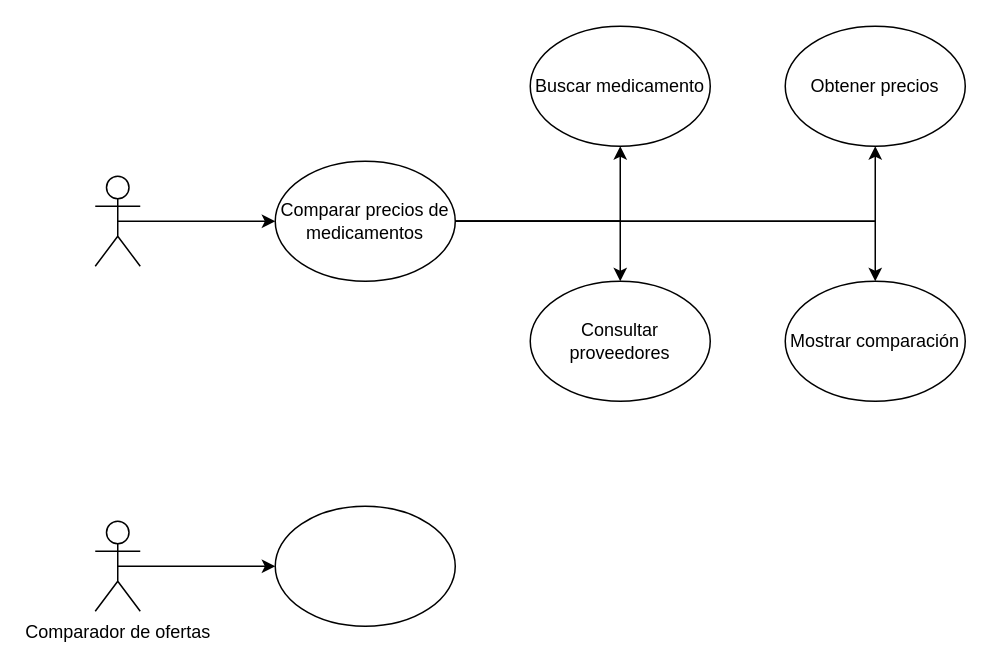
Image size: 992x669. Some labels were removed from this diagram. The shapes that lost their labels are listed below. From the top down, each one's centre as x and y in pixels, then its label:
the point at 117,220: Cuidador
the point at 364,565: API farmacia
